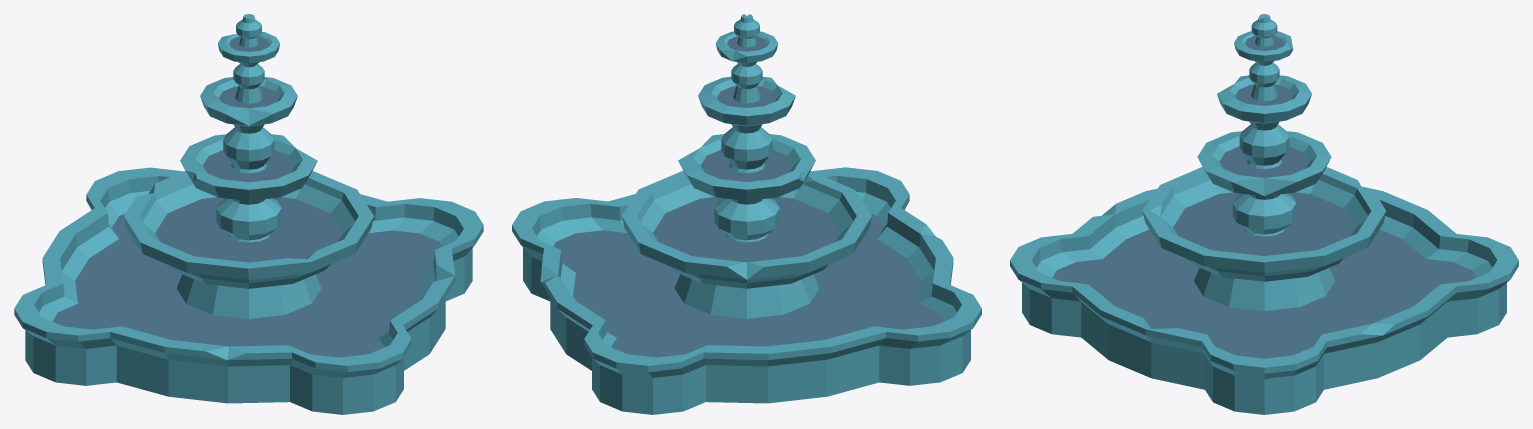
Rendered from SM_Prop_Fountain_01.glb.
3 renders of one model, left to right at view 1: azimuth 30°, elevation 25°; view 2: azimuth 150°, elevation 25°; view 3: azimuth 270°, elevation 25°, orthographic. The views are drawn at different scales.
Parts seen in each view (by area): view 1: SM_Prop_Fountain_Water_01; view 2: SM_Prop_Fountain_Water_01; view 3: SM_Prop_Fountain_Water_01.
Part boxes in pixels (bbox=[...]): SM_Prop_Fountain_Water_01: bbox=[14, 14, 483, 414]; SM_Prop_Fountain_Water_01: bbox=[512, 14, 981, 414]; SM_Prop_Fountain_Water_01: bbox=[1010, 14, 1518, 414].
Bounding box in the file's own units: 0.0421 × 0.027 × 0.0421.
